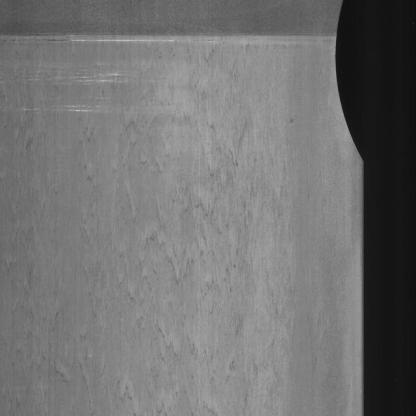welding_line: (0, 21, 359, 49)
